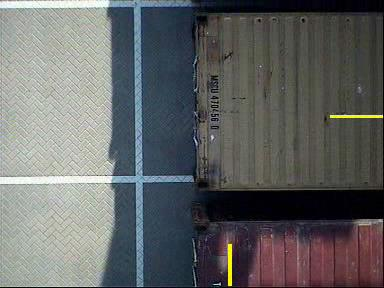groundmarker_2: (78, 60, 152, 102)
